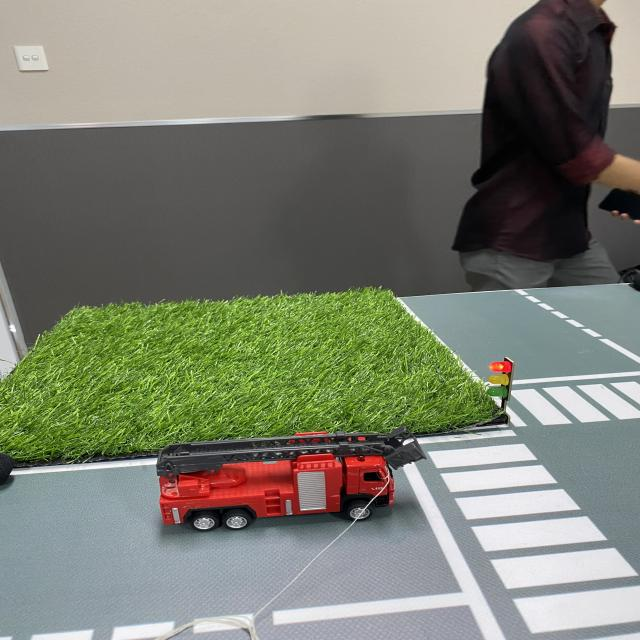Fire Truck: (147, 420, 434, 535)
